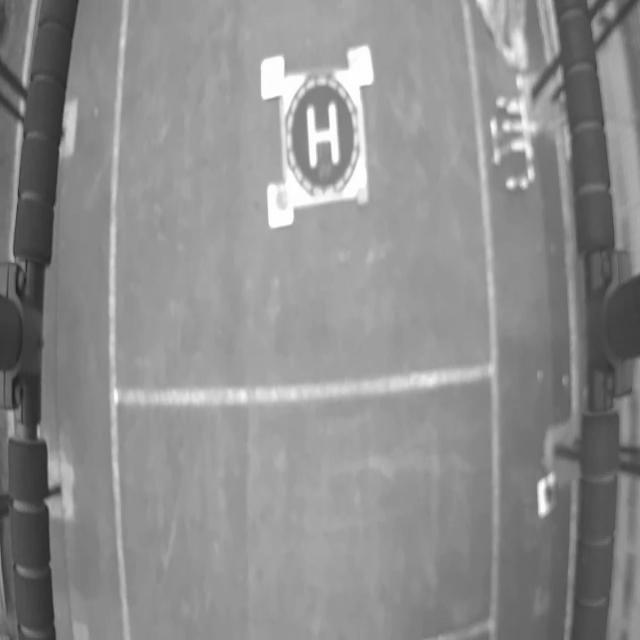Helipad: (306, 102, 340, 168)
